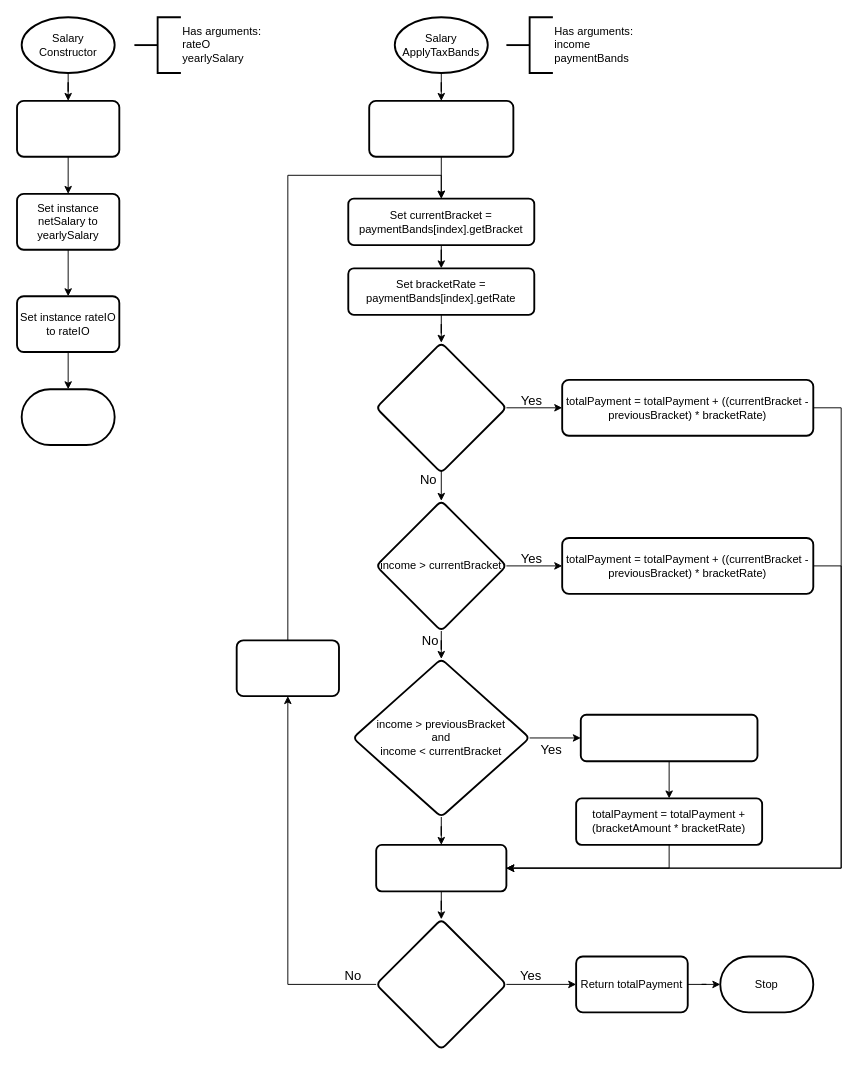
The diagram is 865 pixels wide and 1066 high, and some of its shapes have lost their labels. Here are the shapes that lost their labels. From the top down, the centre of each, then its label:
the point at 68,128: Set instance yearlySalary to yearlySalary
the point at 441,128: Set totalPayment = 0 Set previousBracket = 0 Set index = 0
the point at 67,416: End
the point at 441,407: currentBracket < 0
the point at 287,668: index = index + 1
the point at 668,737: bracketAmount = income - previousBracket
the point at 441,868: previousBracket = currentBracket
the point at 441,984: index > bracketRate.length
